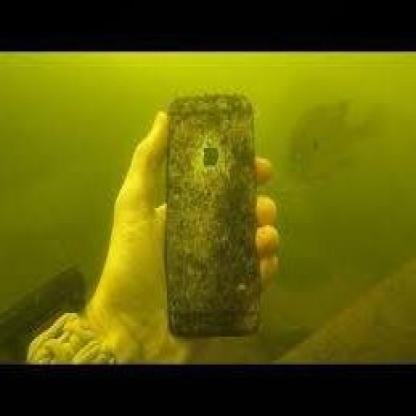cellphone: (164, 92, 262, 339)
